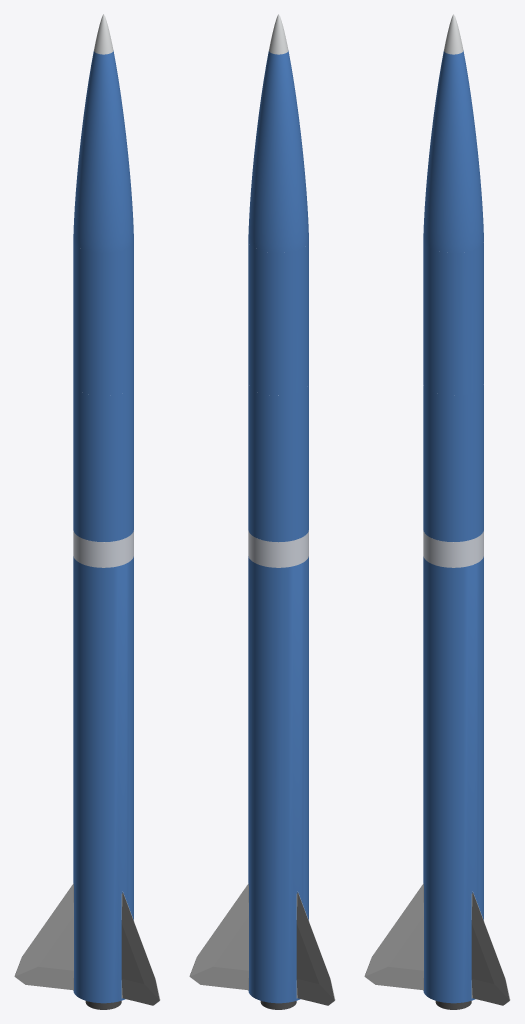
Rendered from rocket_atlas.glb.
3 renders of one model, left to right at view 1: azimuth 30°, elevation 25°; view 2: azimuth 150°, elevation 25°; view 3: azimuth 270°, elevation 25°, orthographic.
Parts seen in each view (by area): view 1: ATLAS_Booster, ATLAS_NoseCone, ATLAS_CentralAirframe, ATLAS_UpperAirframe, ATLAS_Fin3, ATLAS_Fin1, ATLAS_Aerobrakes, ATLAS_NoseConeTip; view 2: ATLAS_Booster, ATLAS_NoseCone, ATLAS_CentralAirframe, ATLAS_UpperAirframe, ATLAS_Fin2, ATLAS_Fin3, ATLAS_Aerobrakes, ATLAS_NoseConeTip; view 3: ATLAS_Booster, ATLAS_NoseCone, ATLAS_CentralAirframe, ATLAS_UpperAirframe, ATLAS_Fin1, ATLAS_Fin2, ATLAS_Aerobrakes, ATLAS_NoseConeTip.
Boxes of the visible parts, x1=… form: ATLAS_Booster: x1=73, y1=556, x2=133, y2=1003; ATLAS_NoseCone: x1=73, y1=50, x2=133, y2=252; ATLAS_CentralAirframe: x1=73, y1=384, x2=133, y2=541; ATLAS_UpperAirframe: x1=73, y1=241, x2=133, y2=395; ATLAS_Fin3: x1=14, y1=883, x2=73, y2=990; ATLAS_Fin1: x1=121, y1=891, x2=160, y2=1005; ATLAS_Aerobrakes: x1=73, y1=530, x2=133, y2=567; ATLAS_NoseConeTip: x1=94, y1=14, x2=113, y2=54; ATLAS_Booster: x1=248, y1=556, x2=308, y2=1003; ATLAS_NoseCone: x1=248, y1=50, x2=308, y2=252; ATLAS_CentralAirframe: x1=248, y1=384, x2=308, y2=542; ATLAS_UpperAirframe: x1=248, y1=241, x2=308, y2=395; ATLAS_Fin2: x1=189, y1=883, x2=248, y2=990; ATLAS_Fin3: x1=296, y1=891, x2=335, y2=1005; ATLAS_Aerobrakes: x1=248, y1=530, x2=308, y2=567; ATLAS_NoseConeTip: x1=269, y1=14, x2=288, y2=54; ATLAS_Booster: x1=423, y1=556, x2=483, y2=1003; ATLAS_NoseCone: x1=423, y1=50, x2=483, y2=252; ATLAS_CentralAirframe: x1=423, y1=384, x2=483, y2=541; ATLAS_UpperAirframe: x1=423, y1=241, x2=483, y2=395; ATLAS_Fin1: x1=364, y1=883, x2=423, y2=990; ATLAS_Fin2: x1=471, y1=891, x2=510, y2=1005; ATLAS_Aerobrakes: x1=423, y1=530, x2=483, y2=567; ATLAS_NoseConeTip: x1=444, y1=14, x2=463, y2=54.
Bounding box in the file's own units: 0.3931 × 2.77 × 0.3708.
